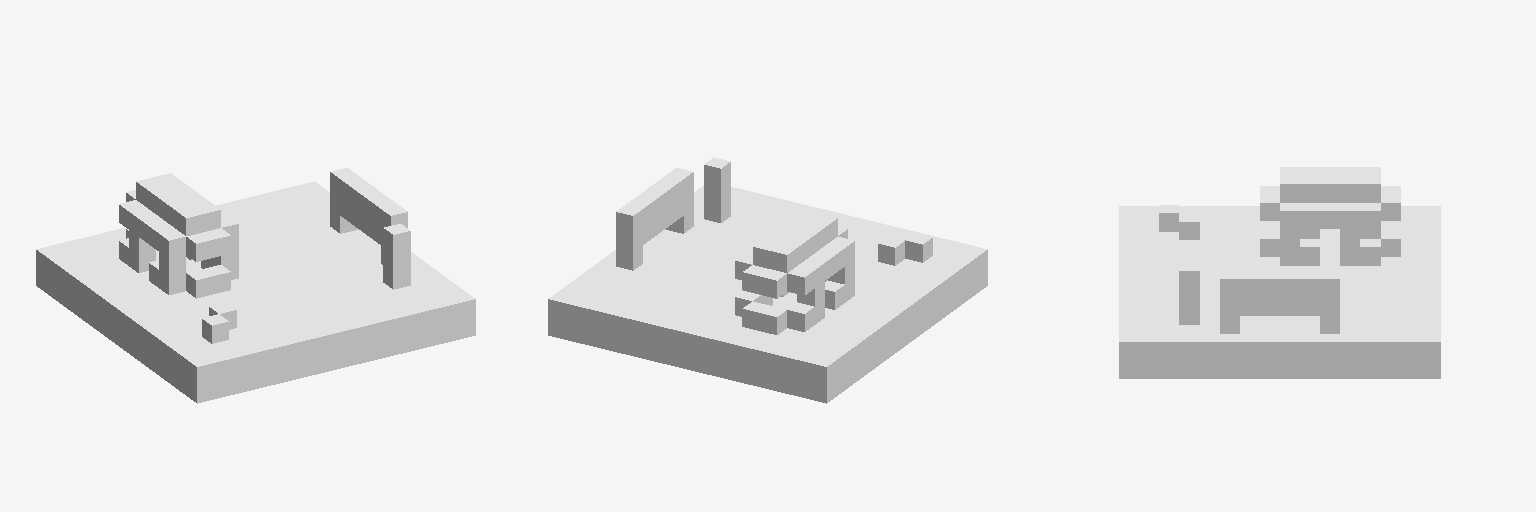
The model's file is Castle_field_2.obj.
3 renders of one model, left to right at view 1: azimuth 30°, elevation 25°; view 2: azimuth 150°, elevation 25°; view 3: azimuth 270°, elevation 25°, orthographic.
Visible parts, largest first — view 1: object 1; view 2: object 1; view 3: object 1.
Boxes of the visible parts, x1,y1,x2,y2 form: object 1: [36, 168, 475, 403]; object 1: [548, 157, 987, 403]; object 1: [1119, 167, 1440, 378].
Bounding box in the file's own units: 1.6 × 0.6 × 1.6.